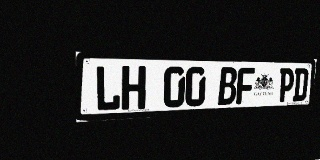0: (163, 66, 185, 108), (185, 67, 206, 107)
B: (218, 67, 238, 105)
D: (292, 68, 309, 101)
F: (236, 67, 255, 104)
H: (121, 66, 146, 110)
L: (95, 65, 121, 112)
P: (278, 68, 295, 102)
